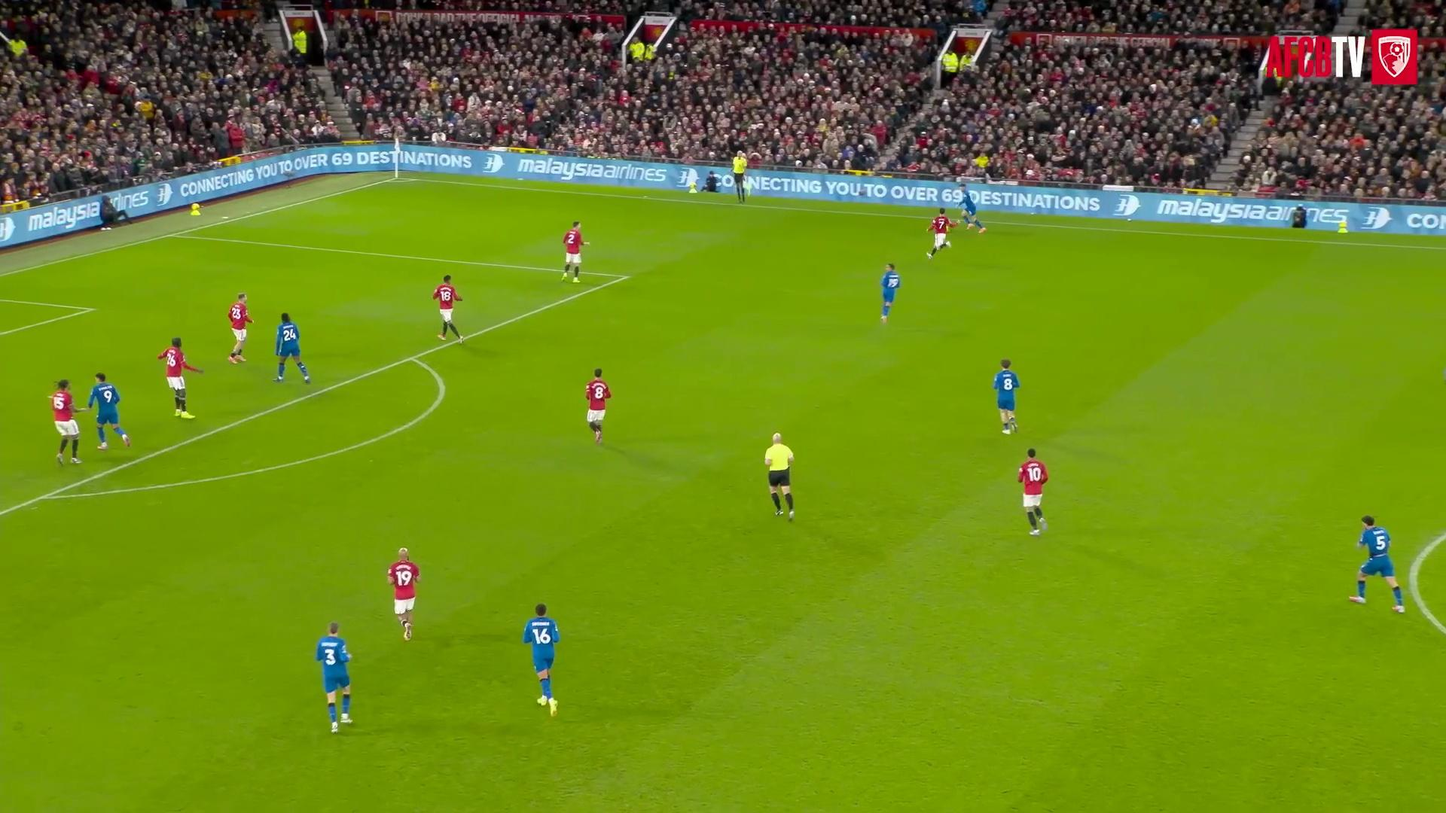player: (1349, 515, 1403, 612), (523, 604, 559, 716), (316, 622, 351, 732), (157, 337, 203, 419), (87, 373, 130, 449), (50, 379, 85, 464), (387, 547, 419, 639), (1017, 449, 1048, 535), (274, 313, 310, 384), (432, 275, 463, 342), (586, 368, 612, 445), (993, 360, 1019, 434), (228, 293, 252, 363), (927, 207, 958, 258), (563, 221, 588, 282), (960, 184, 986, 233), (880, 263, 900, 322)
referee: (764, 433, 794, 520), (732, 151, 747, 202)
